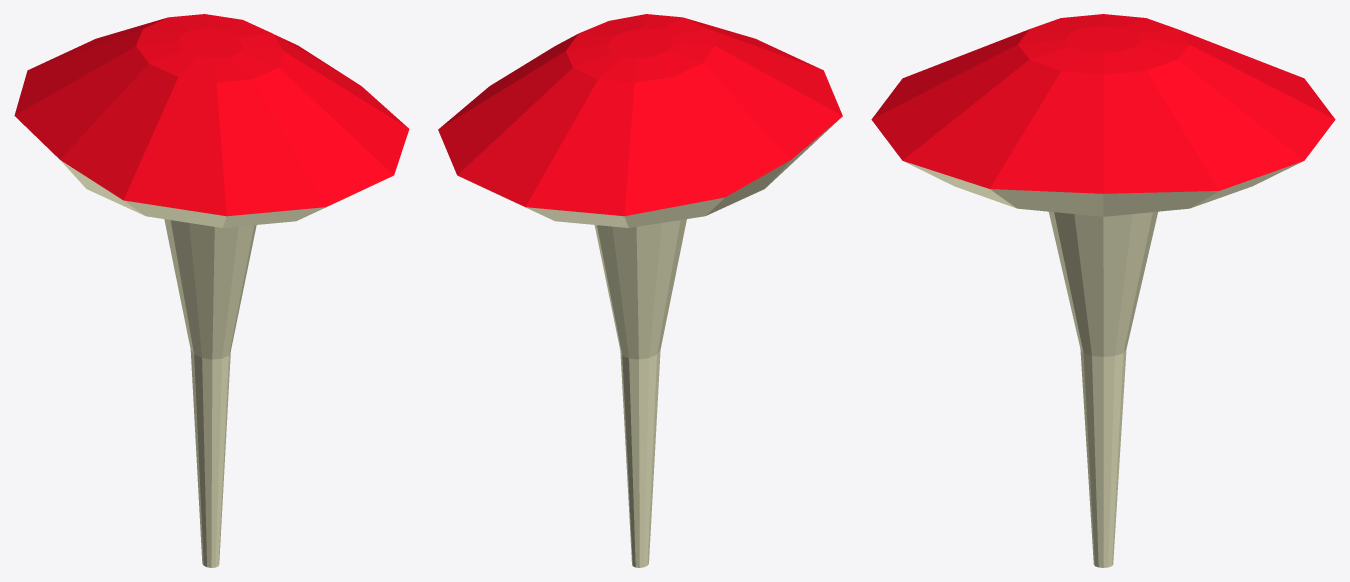
File: Mushroom.fbx
3 renders of one model, left to right at view 1: azimuth 30°, elevation 25°; view 2: azimuth 150°, elevation 25°; view 3: azimuth 270°, elevation 25°, orthographic.
Visible parts, largest first — view 1: Cube.001; view 2: Cube.001; view 3: Cube.001.
Part boxes in pixels (x1,y1,x2,y2): Cube.001: (14, 14, 409, 567); Cube.001: (438, 14, 842, 567); Cube.001: (871, 14, 1335, 567).
Bounding box in the file's own units: 6.25 × 10.3 × 8.25.
